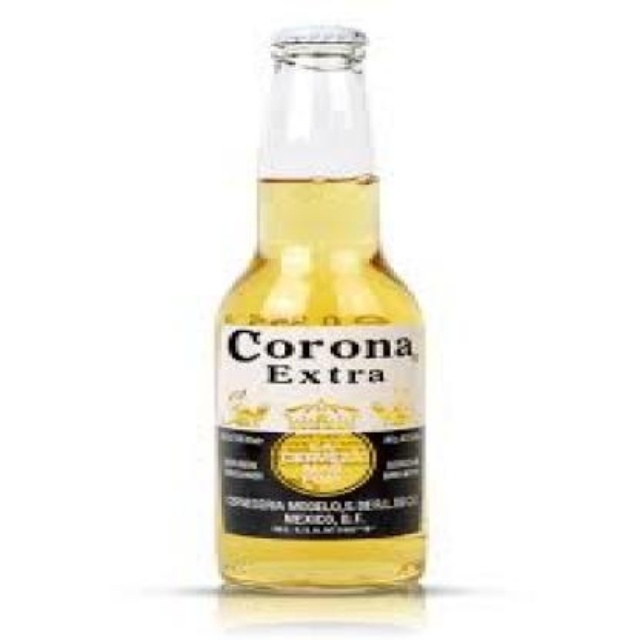trash: (218, 26, 425, 589)
